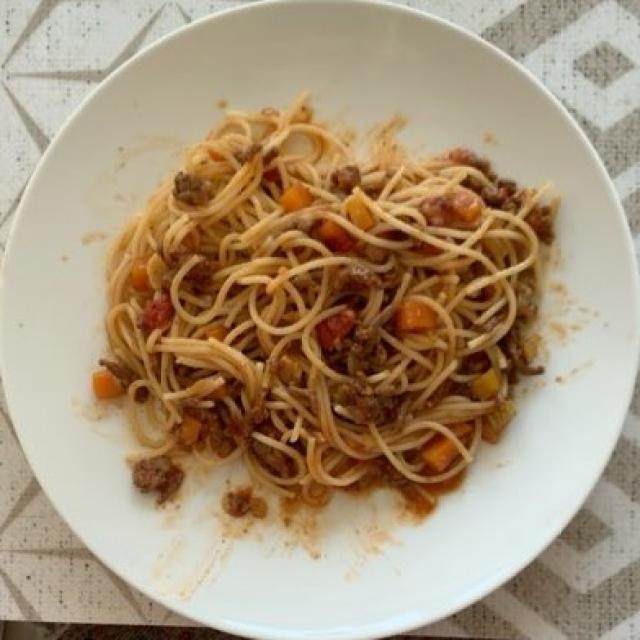bolognaise-sauce: (98, 136, 544, 511)
pasta: (102, 112, 549, 500)
